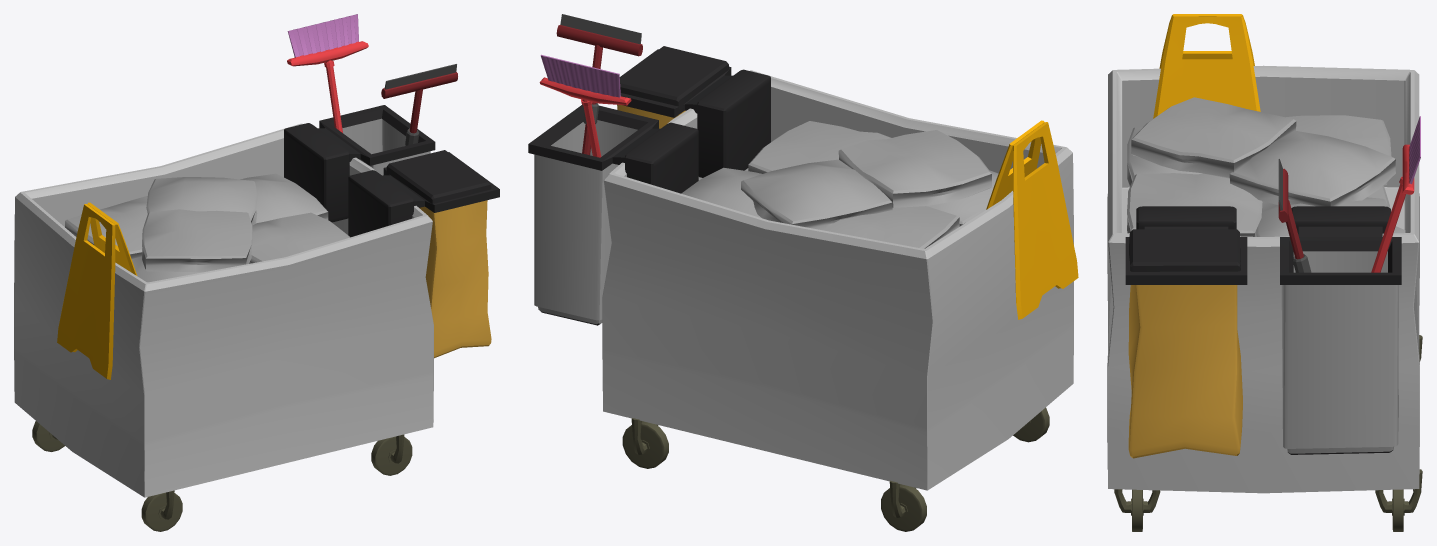
The model's file is cart.fbx.
The picture shows the model from 3 angles, left to right: view 1: azimuth 30°, elevation 25°; view 2: azimuth 150°, elevation 25°; view 3: azimuth 270°, elevation 25°; orthographic projection. The views are drawn at different scales.
Parts seen in each view (by area): view 1: WetFloorSign; view 2: WetFloorSign; view 3: WetFloorSign.
Boxes of the visible parts, <box> form: WetFloorSign: <box>14,14,499,531</box>; WetFloorSign: <box>528,14,1078,531</box>; WetFloorSign: <box>1107,14,1422,531</box>.
Size of the model in its own units: 1117 by 927 by 628.
